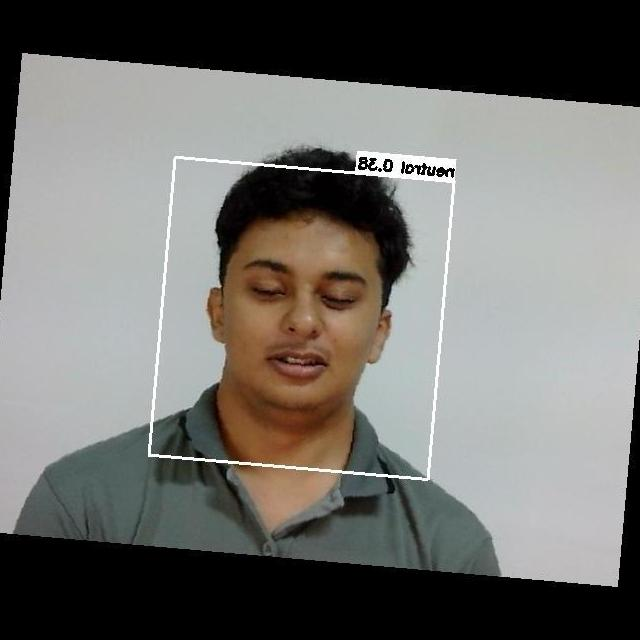Fear: (211, 227, 387, 398)
